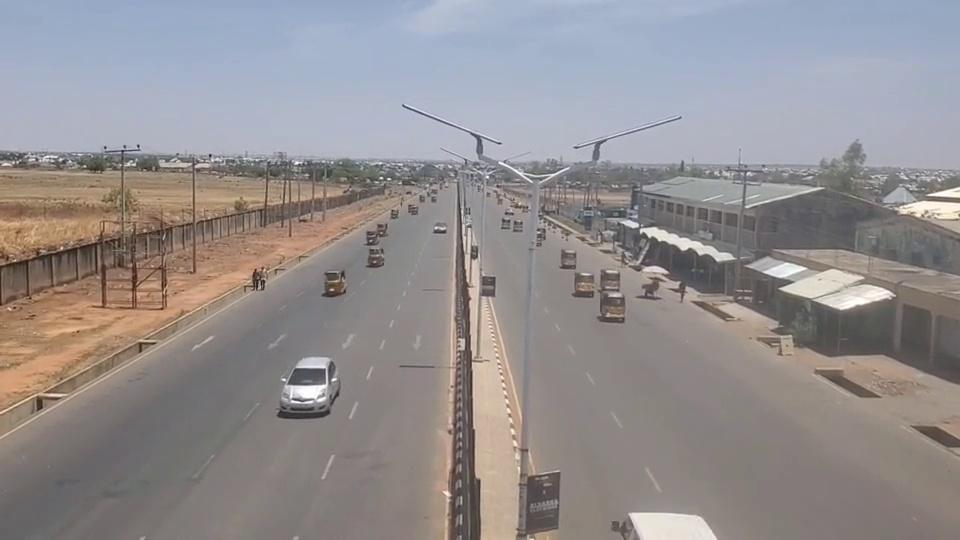bus: (614, 508, 723, 539)
car: (280, 356, 340, 414)
keke: (600, 292, 626, 322), (322, 268, 346, 295), (573, 271, 595, 296), (600, 268, 620, 292), (367, 247, 385, 267), (560, 248, 577, 268)
